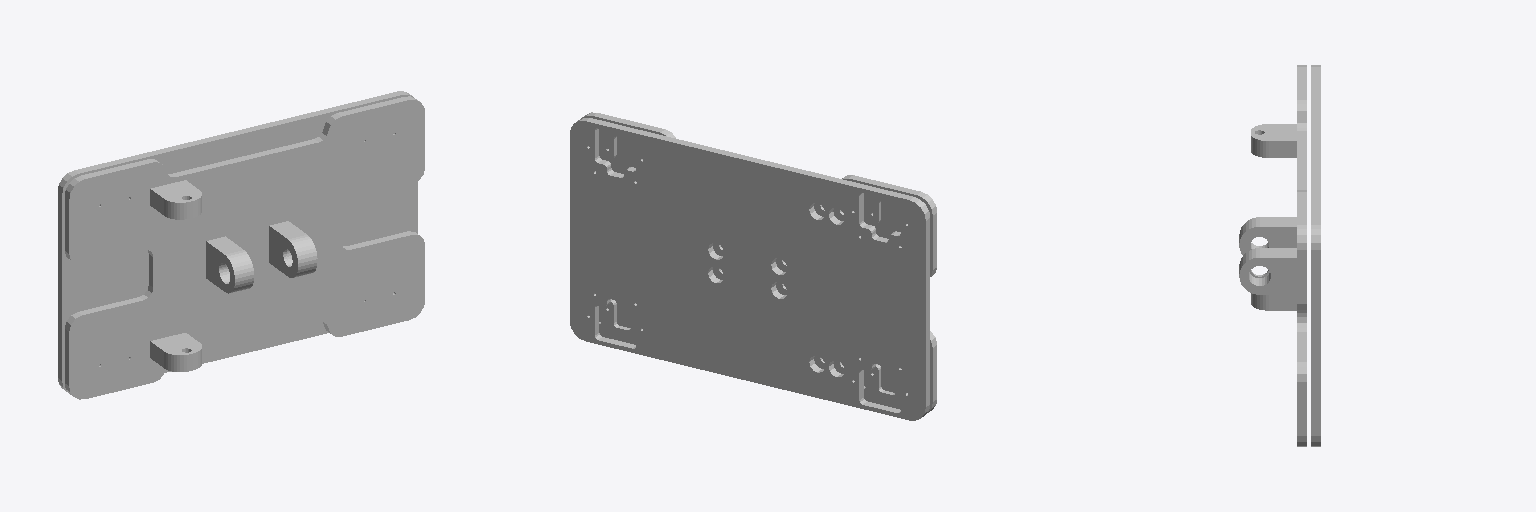
File: Right_Foot.obj
3 views of the same model, side by side, from view 1: azimuth 30°, elevation 25°; view 2: azimuth 150°, elevation 25°; view 3: azimuth 270°, elevation 25° (orthographic).
Parts seen in each view (by area): view 1: Left_Foot; view 2: Left_Foot; view 3: Left_Foot.
Boxes of the visible parts, x1=… form: Left_Foot: x1=58, y1=91, x2=424, y2=399; Left_Foot: x1=570, y1=112, x2=936, y2=420; Left_Foot: x1=1239, y1=65, x2=1320, y2=446.
Bounding box in the file's own units: 0.22 × 0.13 × 0.0435.